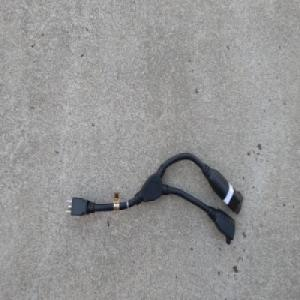Wire: (64, 151, 243, 246)
